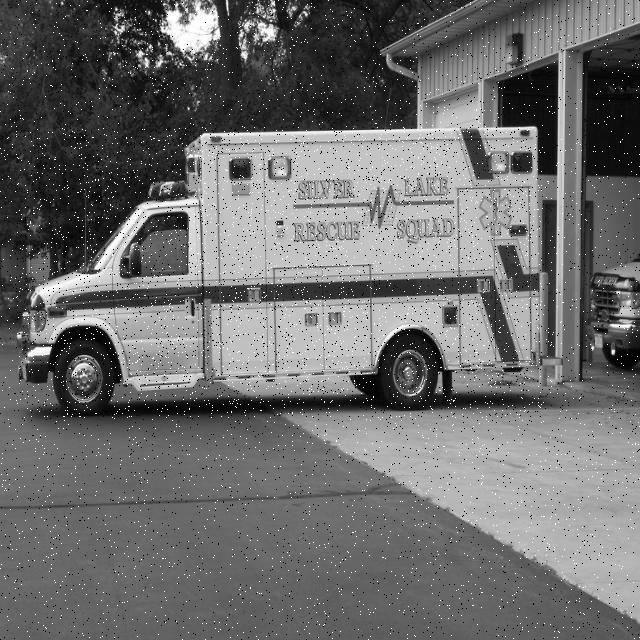Ambulance: (16, 127, 542, 418)
